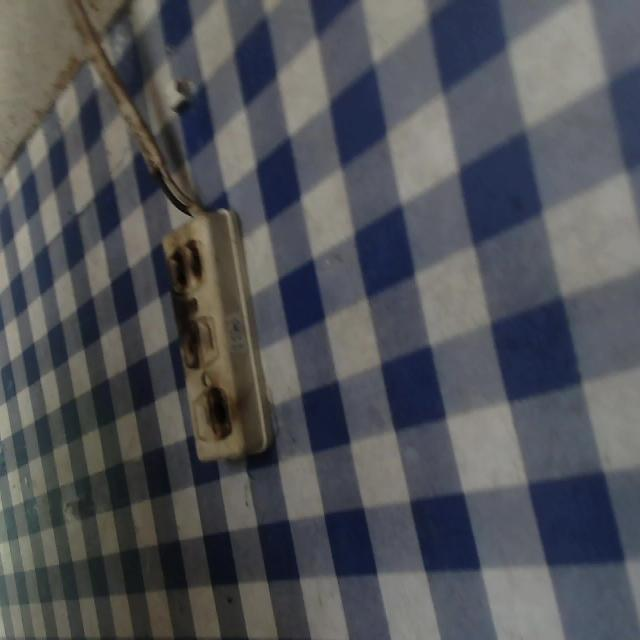-: (162, 233, 205, 295), (174, 313, 204, 368), (206, 385, 233, 440)
